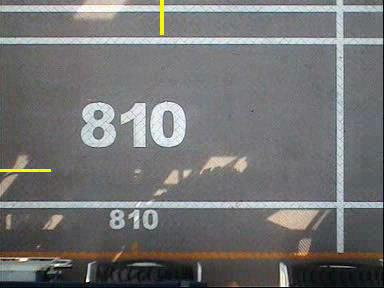groundmarker_2: (197, 102, 246, 189)
